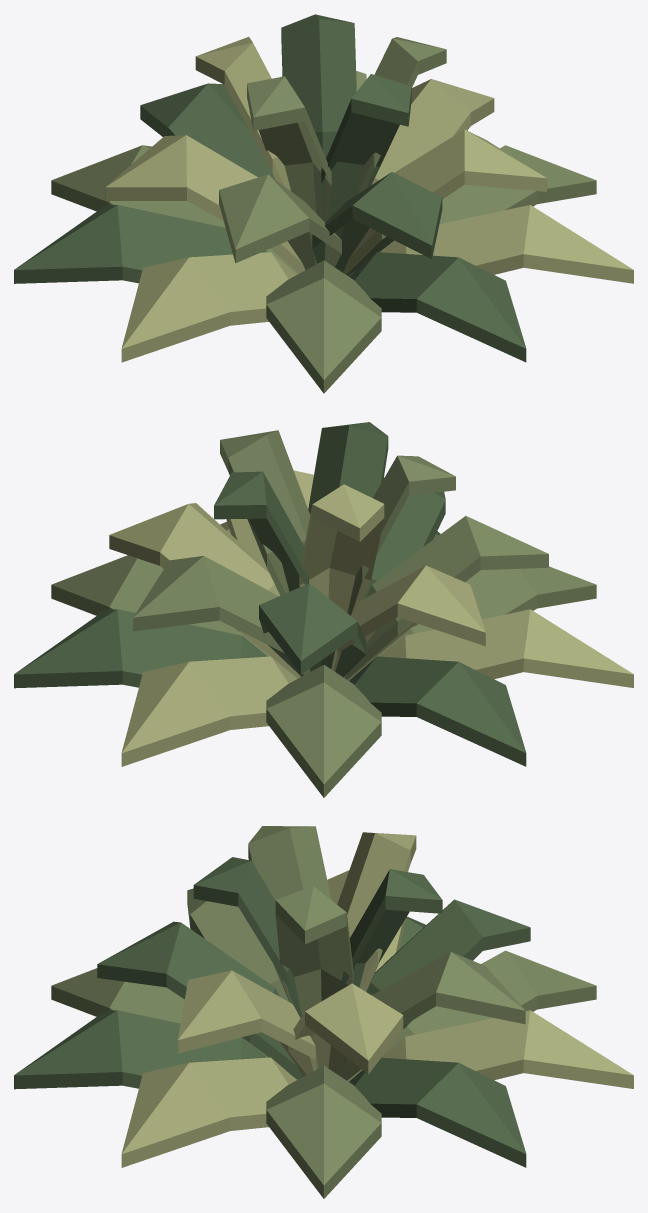
Rendered from SUCCULENT_ROSETTE.lo.glb.
The picture shows the model from 3 angles, top to bottom: view 1: azimuth 30°, elevation 25°; view 2: azimuth 150°, elevation 25°; view 3: azimuth 270°, elevation 25°; orthographic projection.
Parts seen in each view (by area): view 1: SUCCULENT_ROSETTE; view 2: SUCCULENT_ROSETTE; view 3: SUCCULENT_ROSETTE.
Boxes of the visible parts, x1=… form: SUCCULENT_ROSETTE: x1=14, y1=14, x2=633, y2=393; SUCCULENT_ROSETTE: x1=14, y1=422, x2=633, y2=797; SUCCULENT_ROSETTE: x1=14, y1=826, x2=633, y2=1198.
Size of the model in its own units: 0.4851 by 0.2246 by 0.4926.
1 material, 1 textured.
